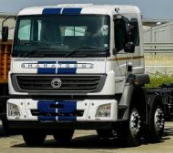truck: (1, 3, 172, 146)
